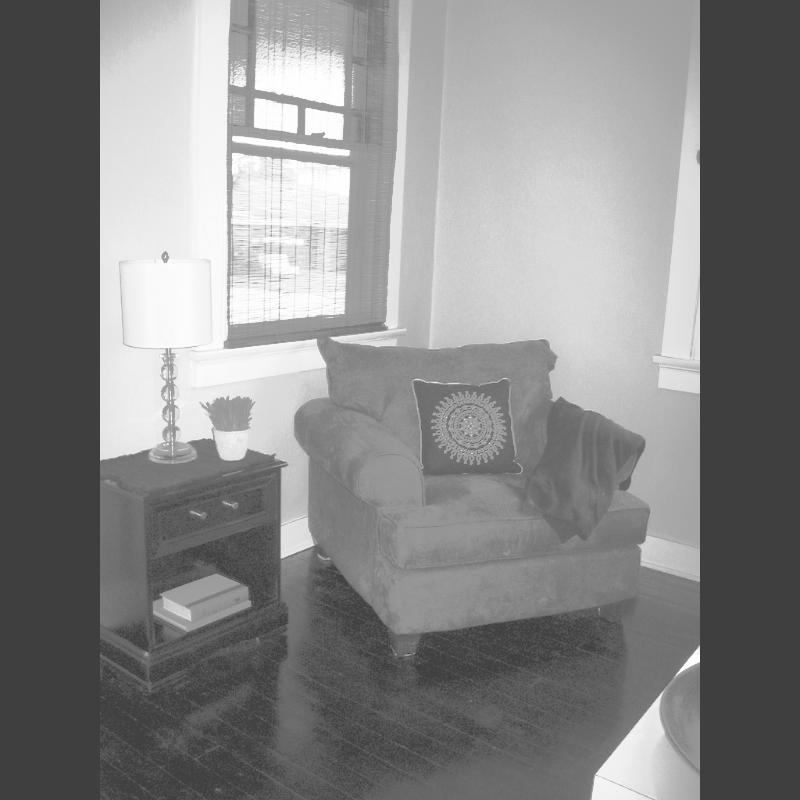pillow: (413, 383, 517, 473)
